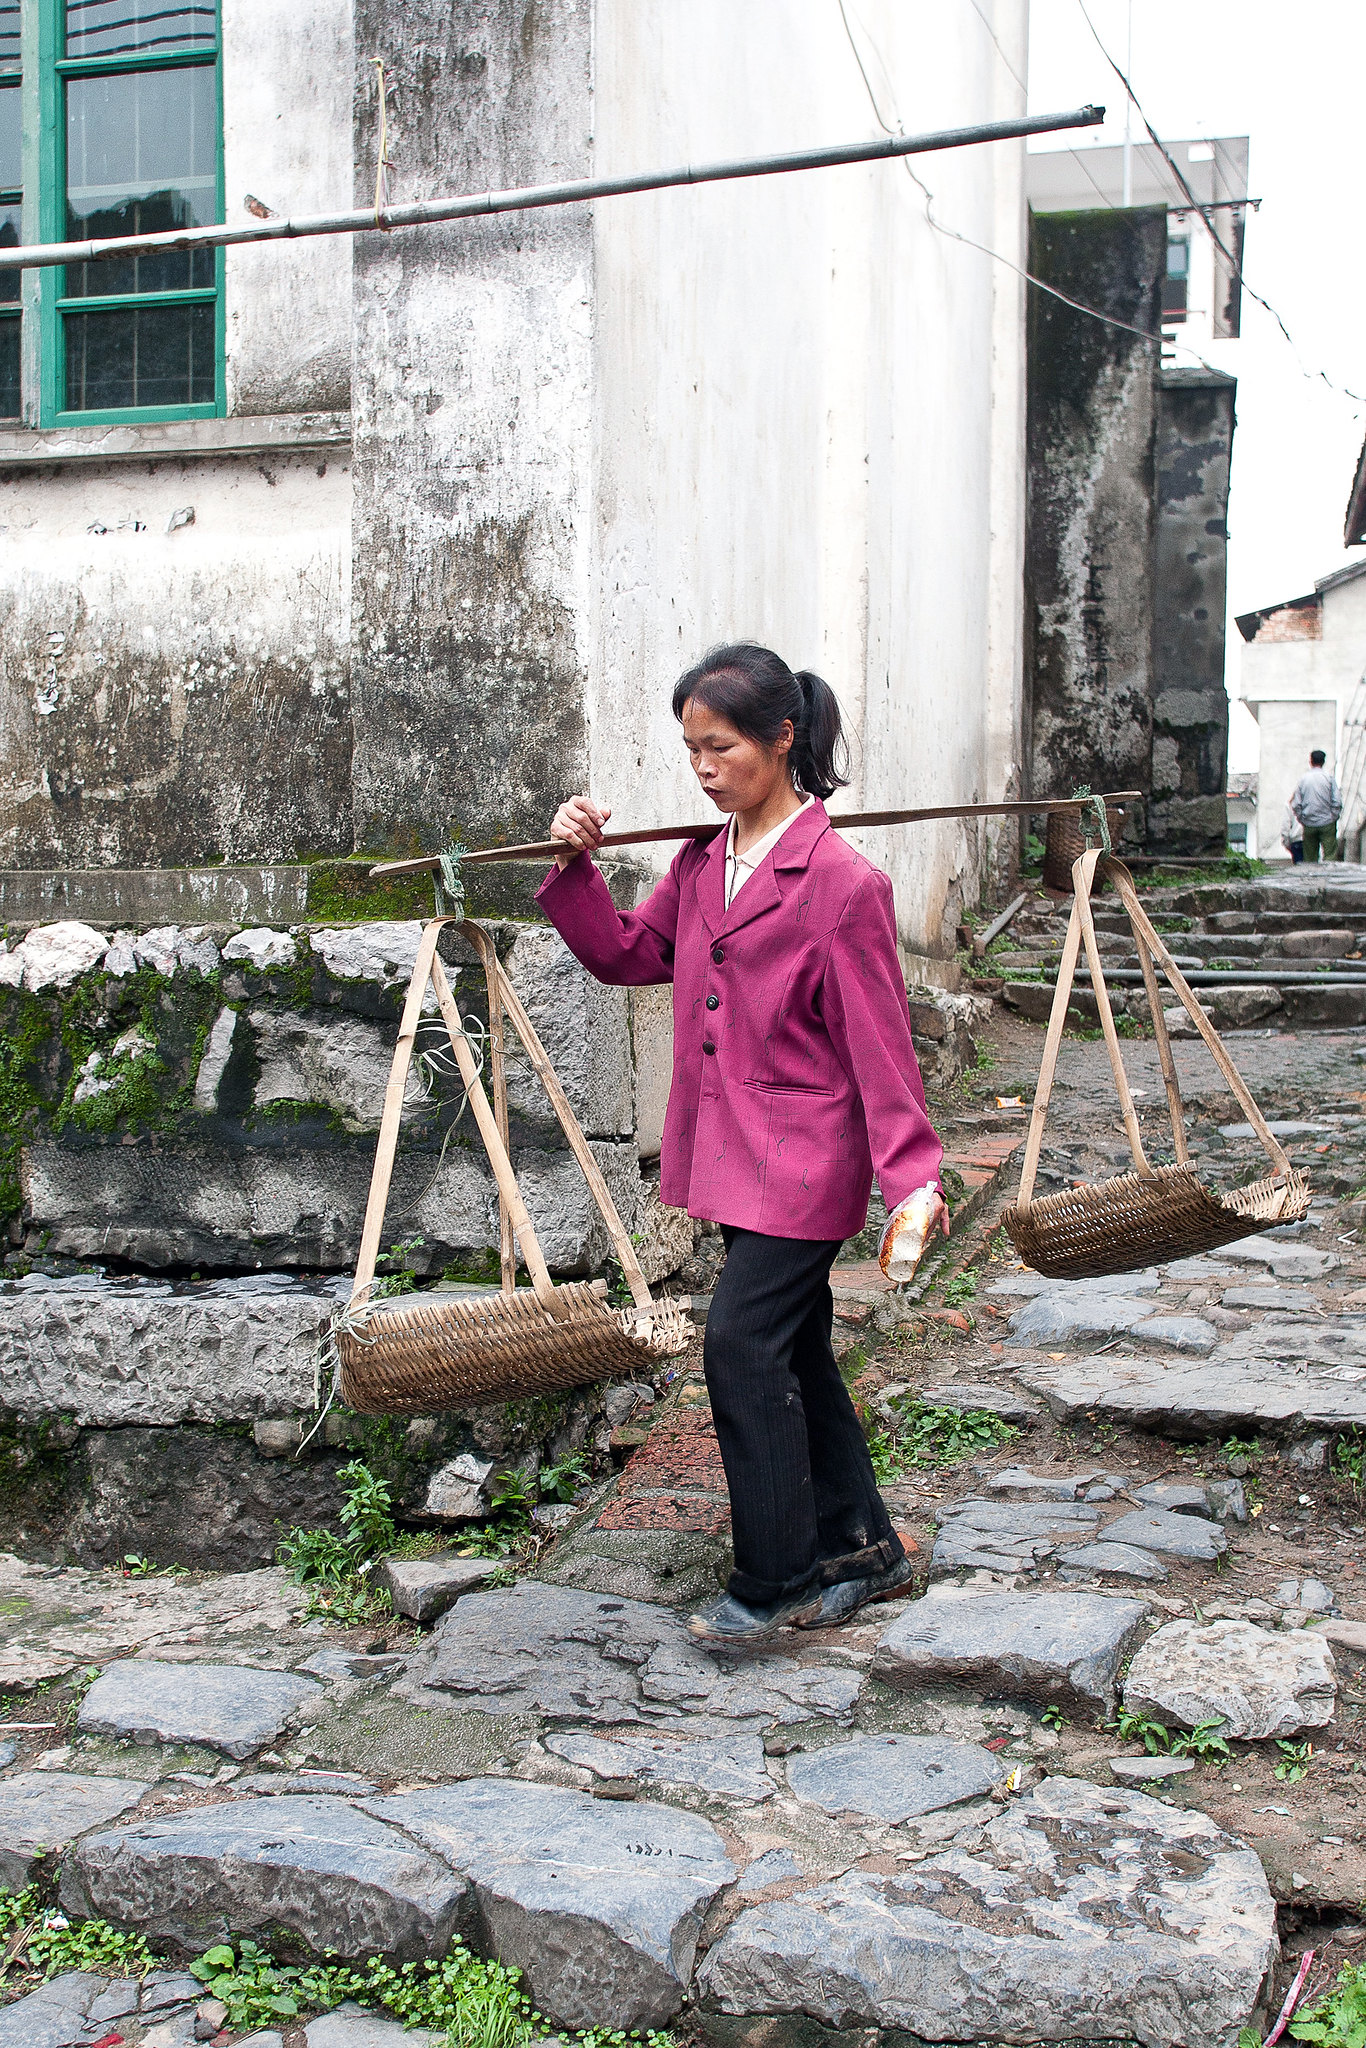person: (538, 656, 997, 1613)
